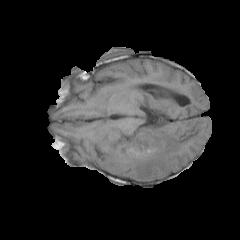glioma: (103, 87, 200, 179)
